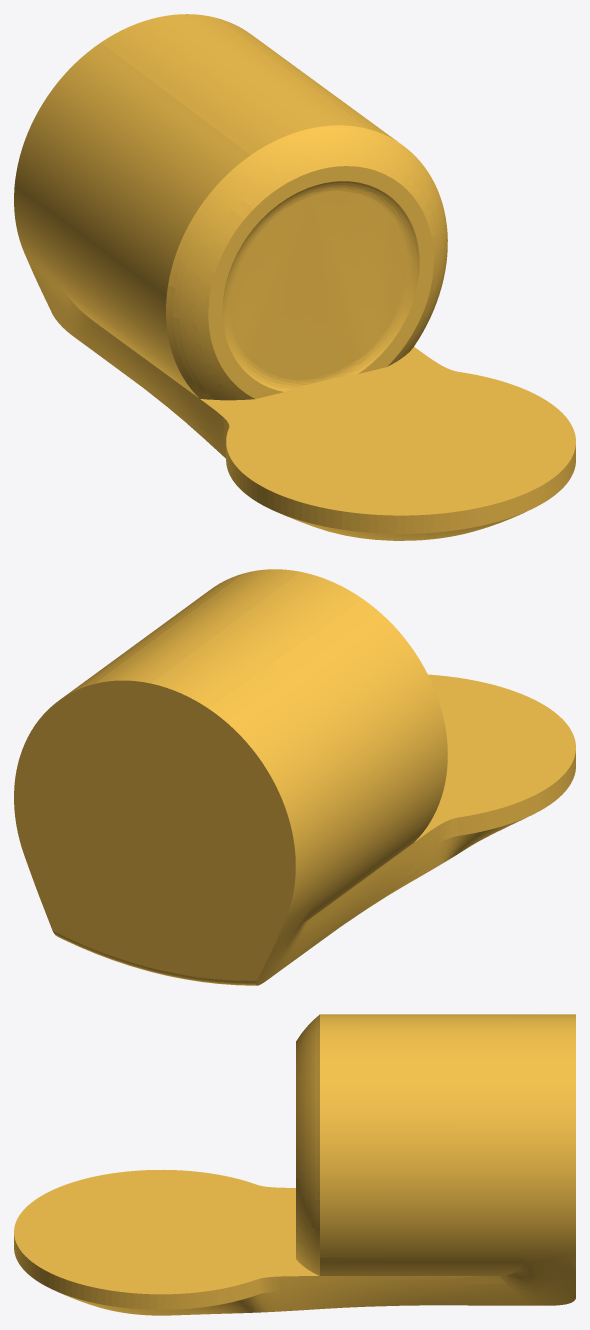
Rendered from armr4.dae.
The picture shows the model from 3 angles, top to bottom: view 1: azimuth 30°, elevation 25°; view 2: azimuth 150°, elevation 25°; view 3: azimuth 270°, elevation 25°; orthographic projection. The views are drawn at different scales.
Parts seen in each view (by area): view 1: armr4; view 2: armr4; view 3: armr4.
Part boxes in pixels (x1,y1,x2,y2): armr4: (14,14,575,540); armr4: (14,569,575,985); armr4: (14,1014,575,1315).
Size of the model in its own units: 0.086 by 0.164 by 0.0801.
1 material, 1 textured.
